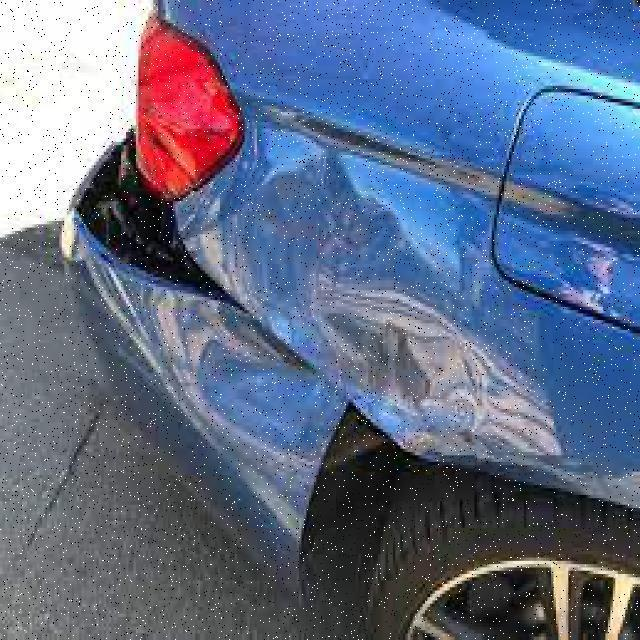quaterpanel-dent: (324, 23, 636, 521)
rear-bumper-dent: (54, 99, 319, 581)
